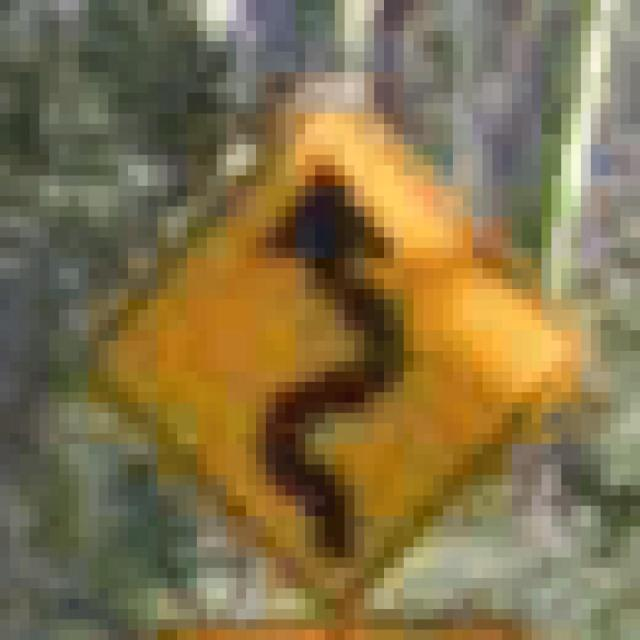Banyak Tikungan Pertama Kiri: (59, 62, 581, 609)
